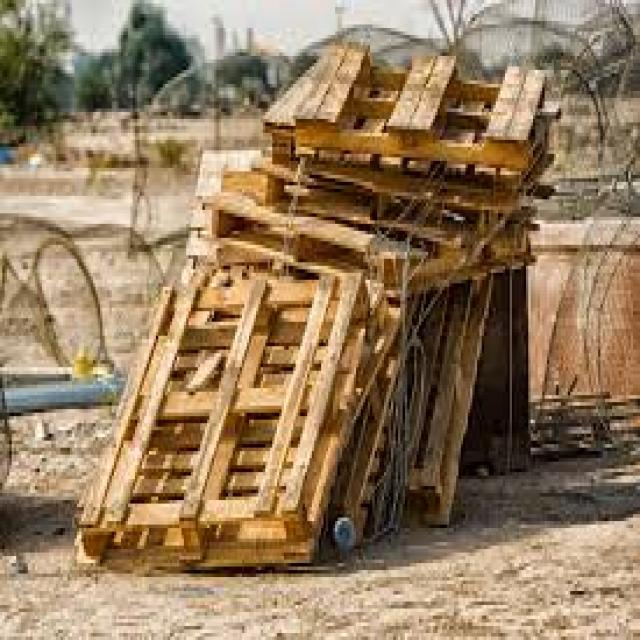green waste: (76, 33, 611, 588)
